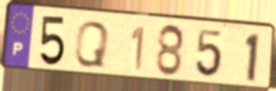1: (243, 31, 262, 84), (129, 25, 145, 71)
5: (193, 28, 225, 79), (39, 16, 66, 68)
8: (153, 23, 187, 79)
Q: (72, 19, 111, 69)
